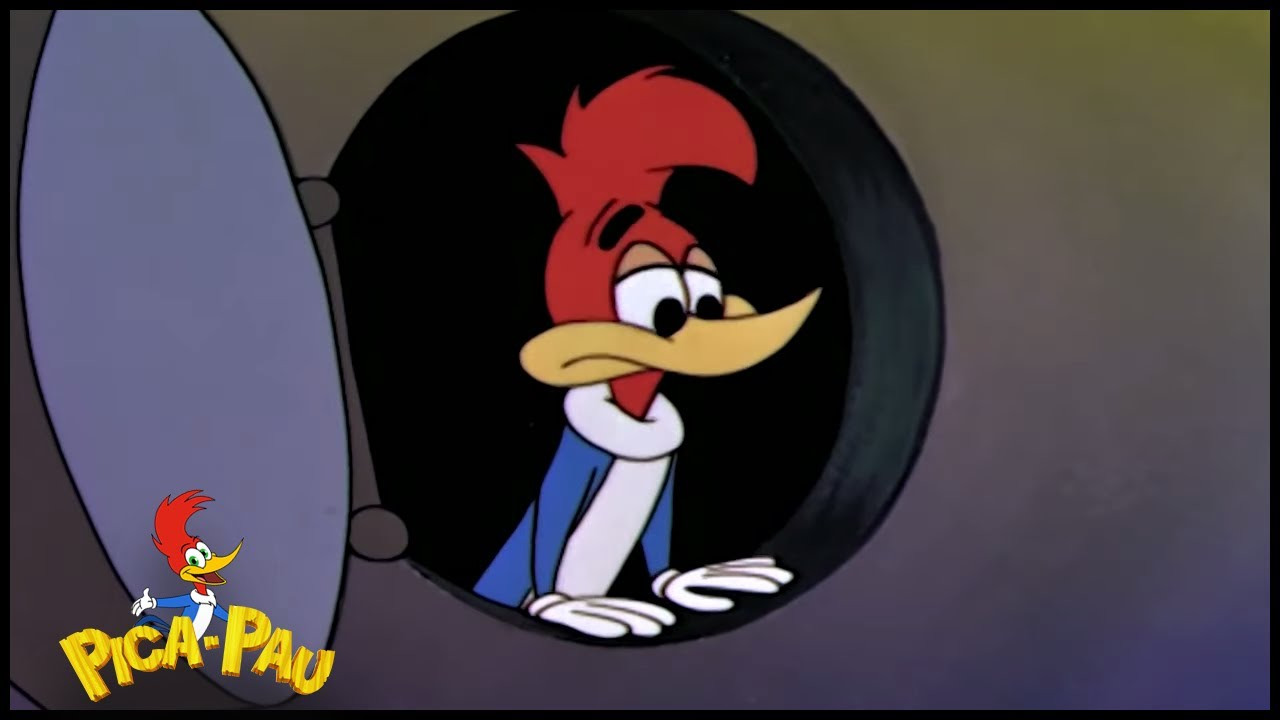picapau: (469, 53, 842, 670)
